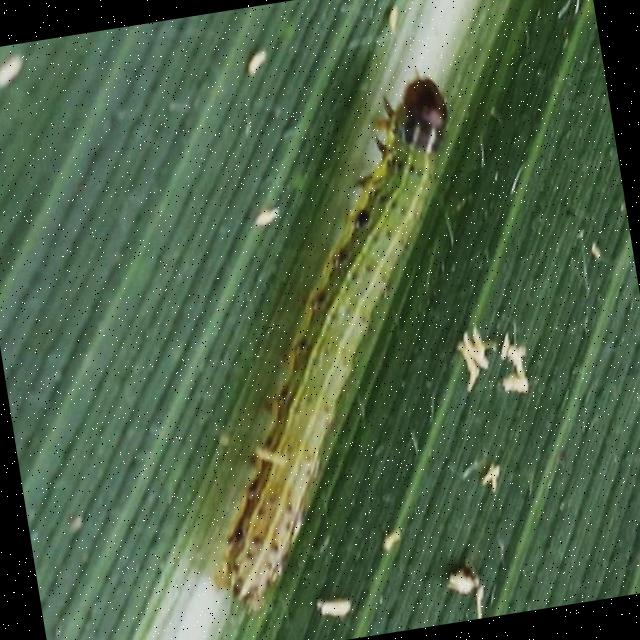worm: (144, 68, 525, 621), (393, 67, 458, 162)
